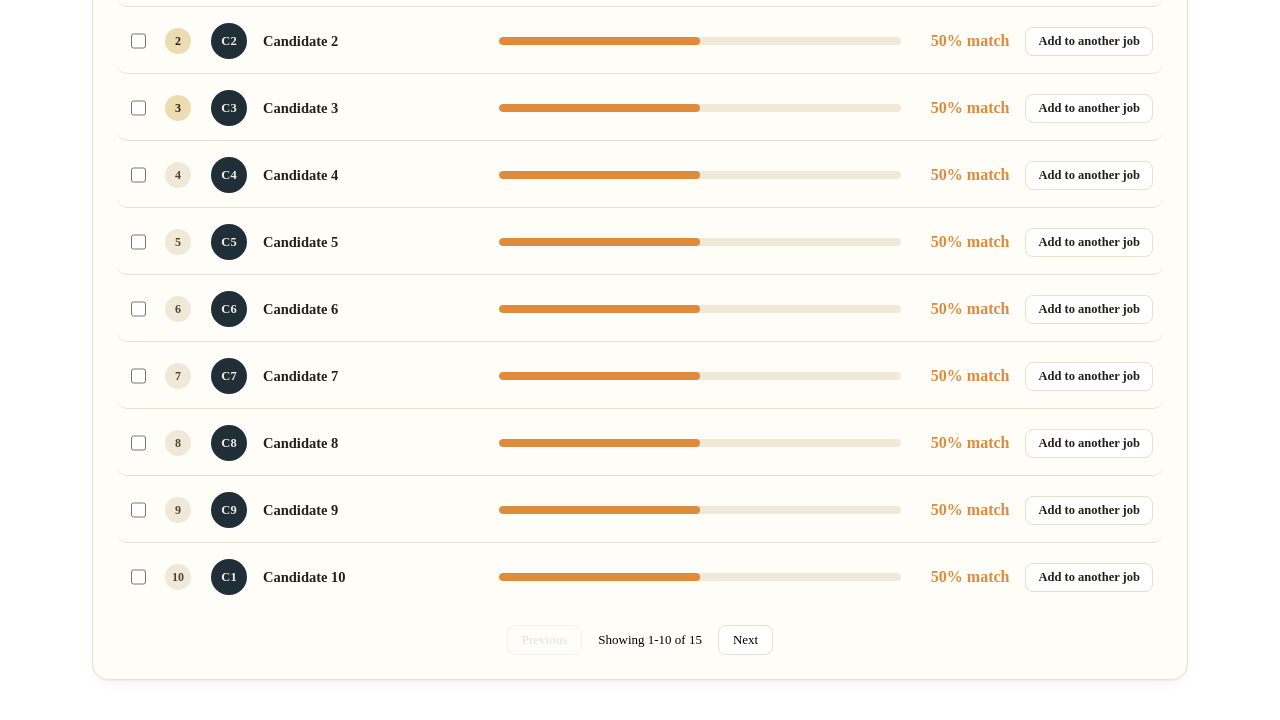
Test: JobMatchesPage › preserves global rank numbers across pages
(page scrolled)
Click the button "Next".
click(746, 640)  # box [718, 625, 773, 655]
(page scrolled)
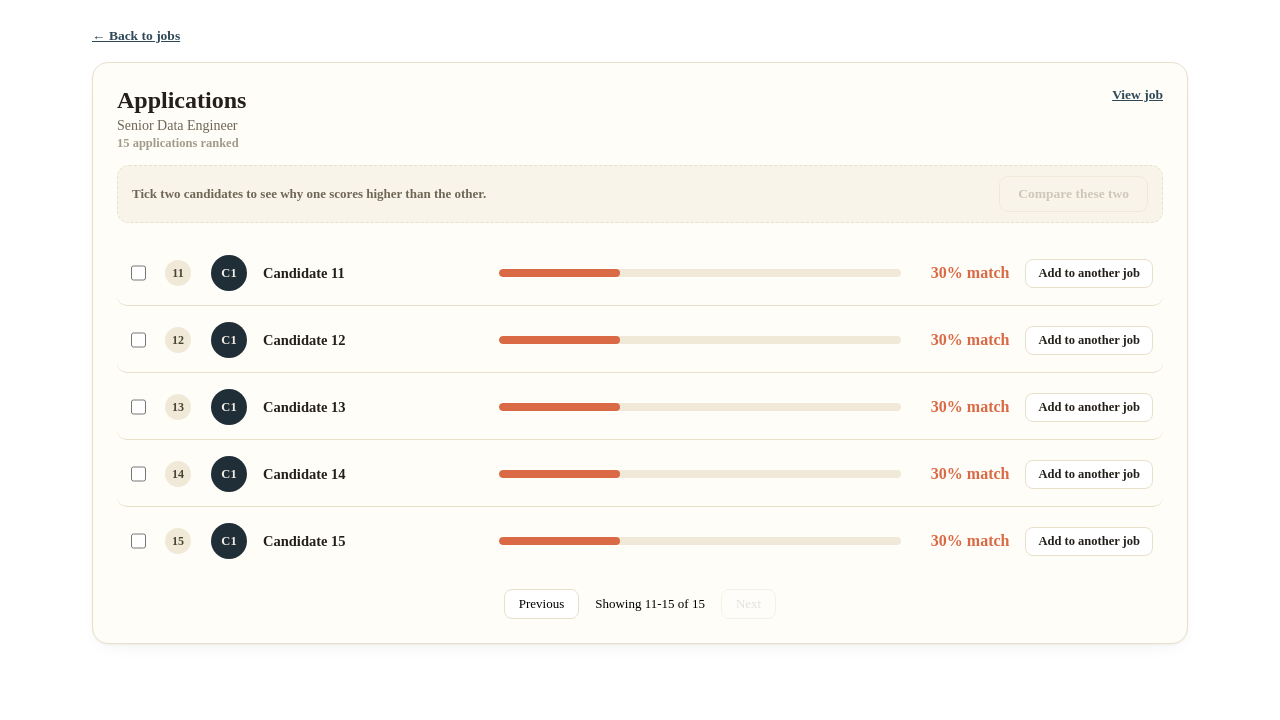
Check: the link "Candidate 11" is shown, box [263, 264, 345, 280]
Check: the text "11" is shown, box [165, 260, 191, 286]
